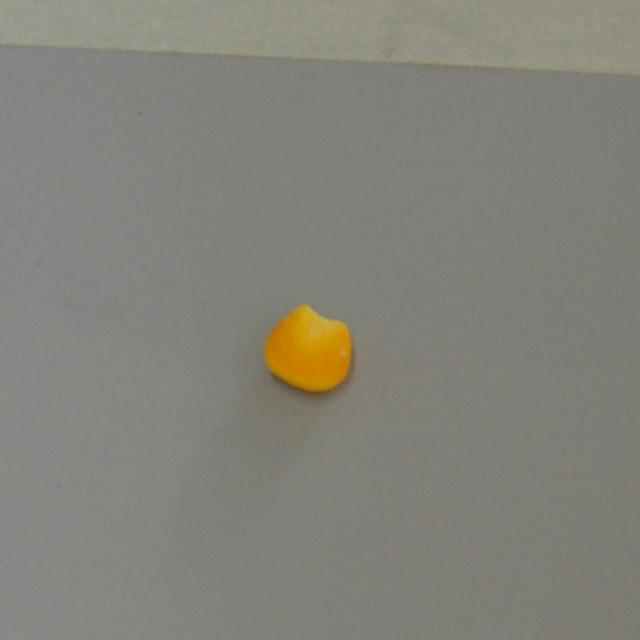no_canjicado: (256, 294, 356, 396)
